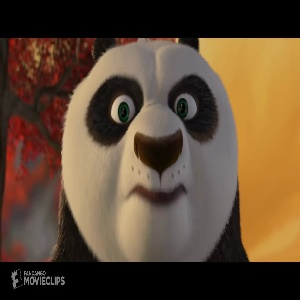po: (48, 38, 252, 260)
